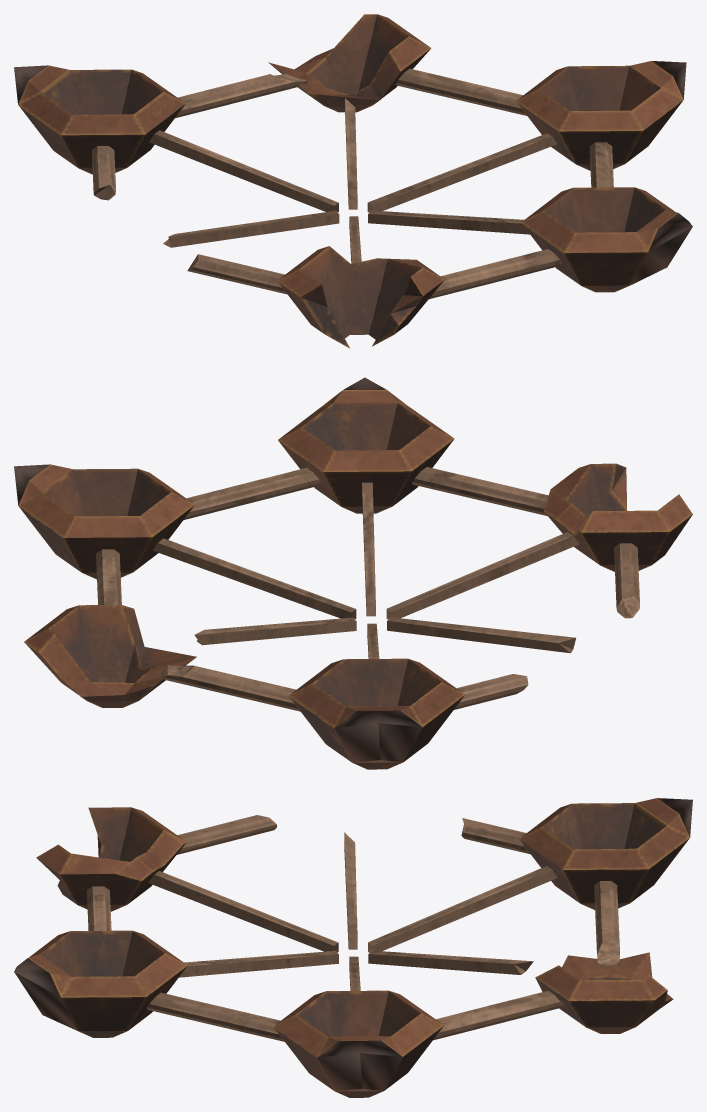
File: UpperHexagon.fbx
3 renders of one model, top to bottom at view 1: azimuth 30°, elevation 25°; view 2: azimuth 150°, elevation 25°; view 3: azimuth 270°, elevation 25°, orthographic. The views are drawn at different scales.
Visible parts, largest first — view 1: Cylinder.006; view 2: Cylinder.006; view 3: Cylinder.006.
Boxes of the visible parts, bbox=[...] form: Cylinder.006: bbox=[14, 14, 692, 348]; Cylinder.006: bbox=[14, 377, 692, 769]; Cylinder.006: bbox=[14, 798, 692, 1097].
Size of the model in its own units: 133 by 18.67 by 141.
